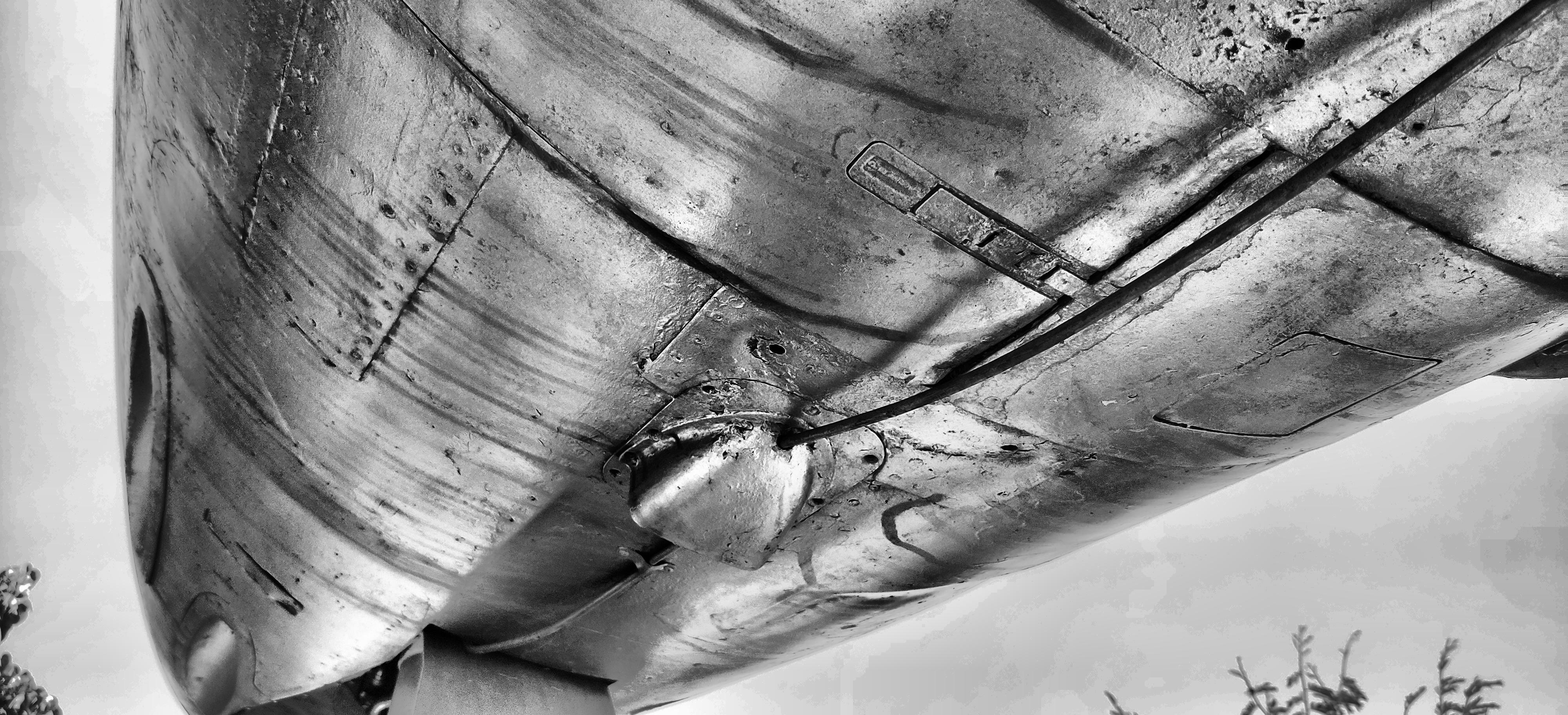crack: (920, 383, 936, 389)
dent: (838, 577, 986, 601), (269, 591, 297, 617), (264, 569, 290, 594)
missing-head: (769, 343, 787, 356), (624, 452, 636, 465), (863, 454, 878, 464), (702, 384, 715, 394), (1001, 445, 1019, 451), (445, 192, 454, 204), (812, 497, 825, 505), (648, 428, 659, 436), (609, 468, 620, 476), (285, 291, 292, 301), (270, 220, 277, 228), (304, 105, 310, 113), (281, 124, 287, 132), (472, 120, 478, 127), (408, 264, 413, 272), (436, 221, 441, 228)
paint-peel-off: (712, 419, 755, 448), (776, 422, 815, 449), (747, 335, 774, 363), (1275, 343, 1317, 358), (877, 430, 907, 450), (915, 447, 967, 458), (722, 379, 745, 394), (709, 403, 726, 416), (650, 340, 660, 362), (1013, 449, 1032, 456), (637, 357, 646, 371), (1259, 357, 1271, 366), (1084, 452, 1096, 460), (1035, 440, 1048, 446)
